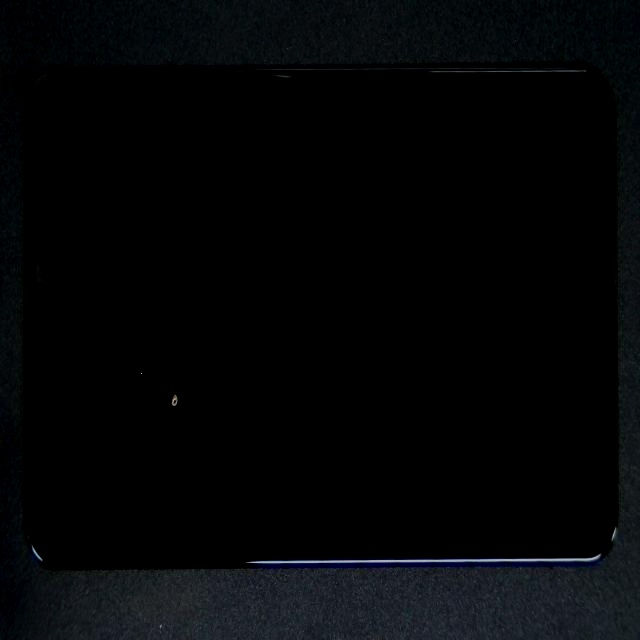stain: (60, 191, 222, 639)
